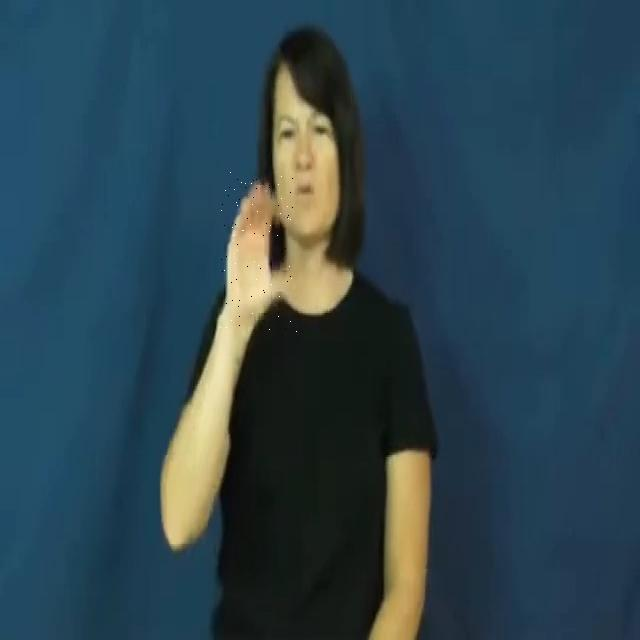cold: (220, 170, 298, 332)
